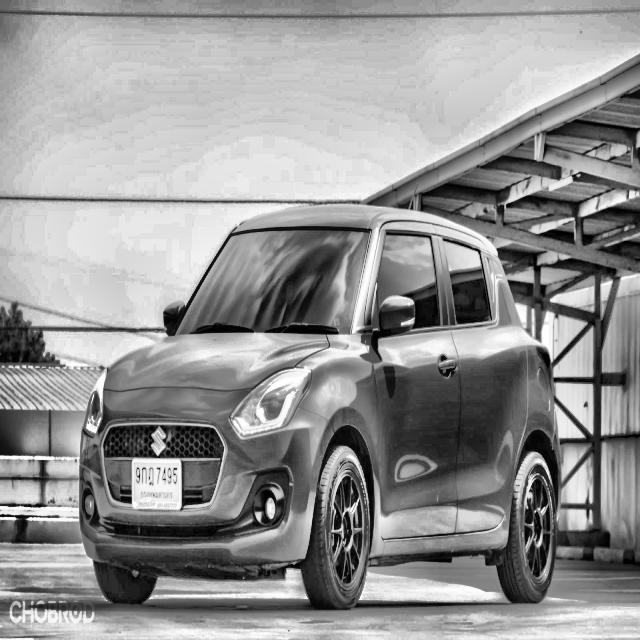license-plate: (131, 457, 183, 513)
